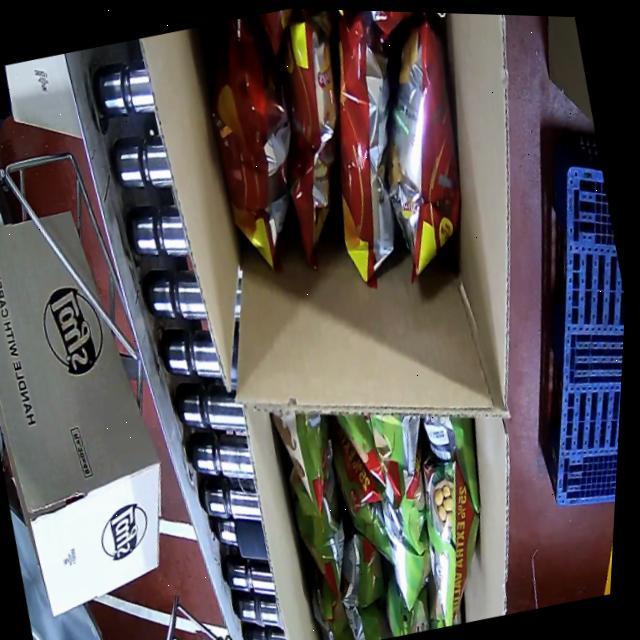MASALA: (174, 6, 496, 309)
YOGURT_HERB: (257, 376, 498, 640)
